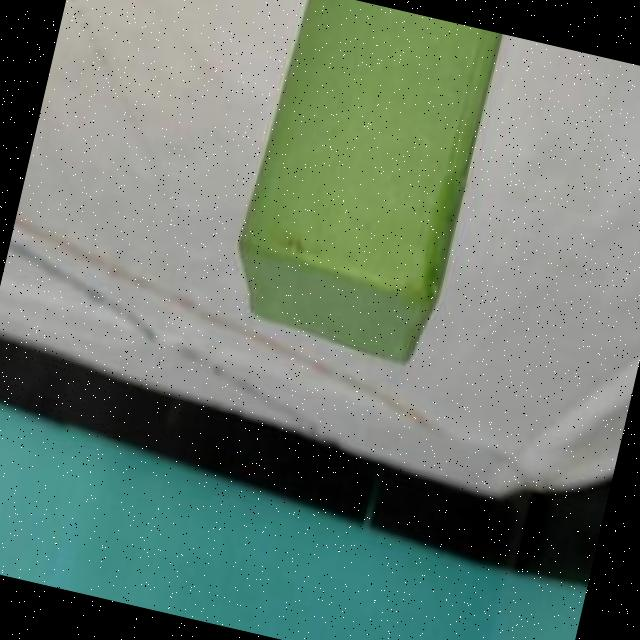greenbox: (211, 0, 502, 374)
